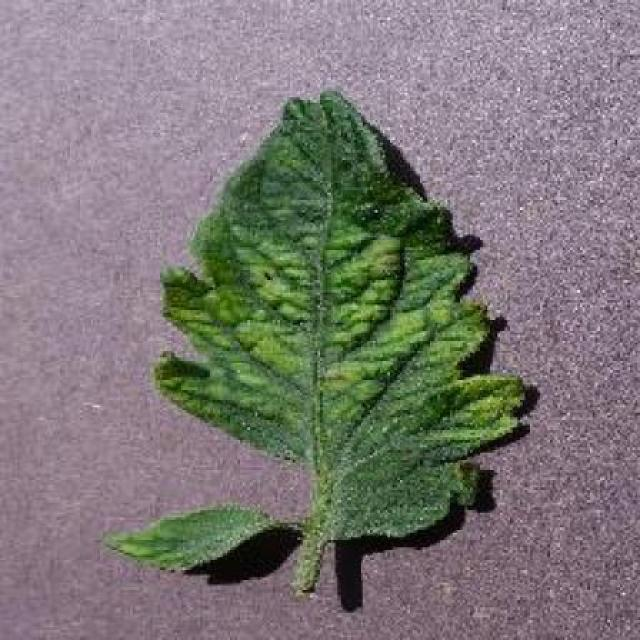Mosaic Virus: (145, 86, 524, 544)
